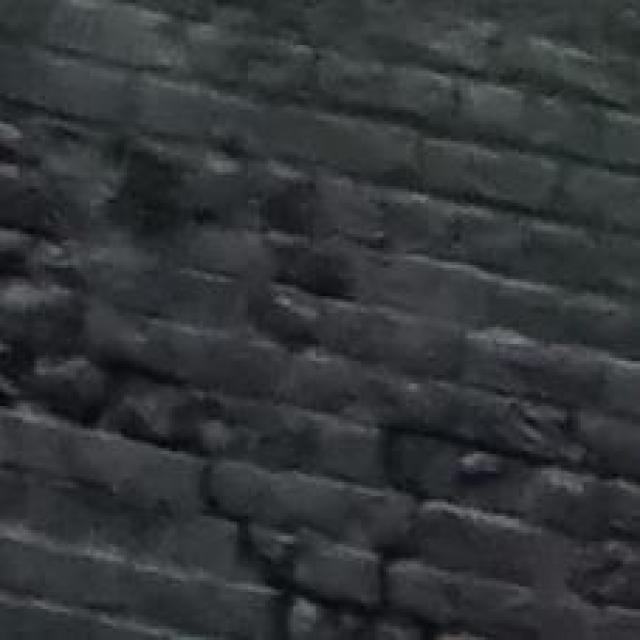Crack: (0, 84, 516, 640)
